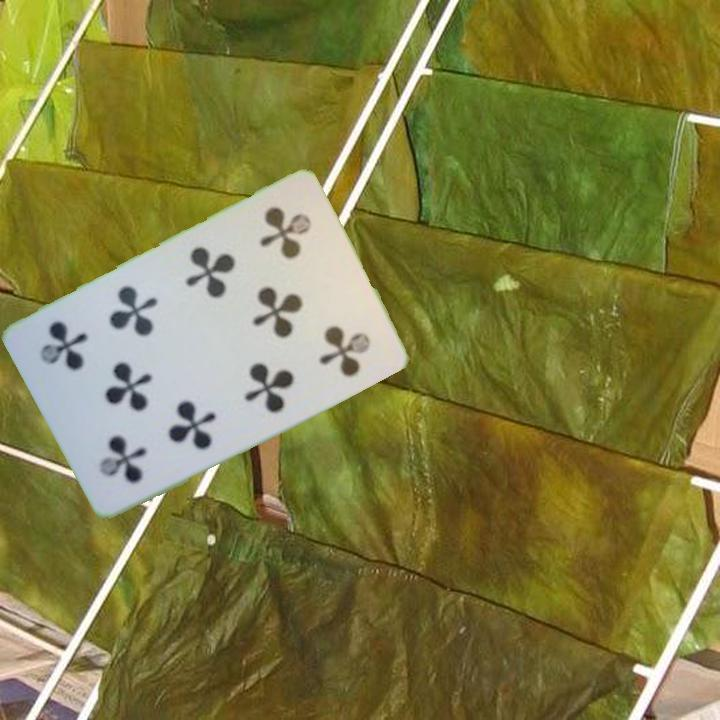c_10.png: (227, 185, 348, 312), (64, 380, 185, 506)
